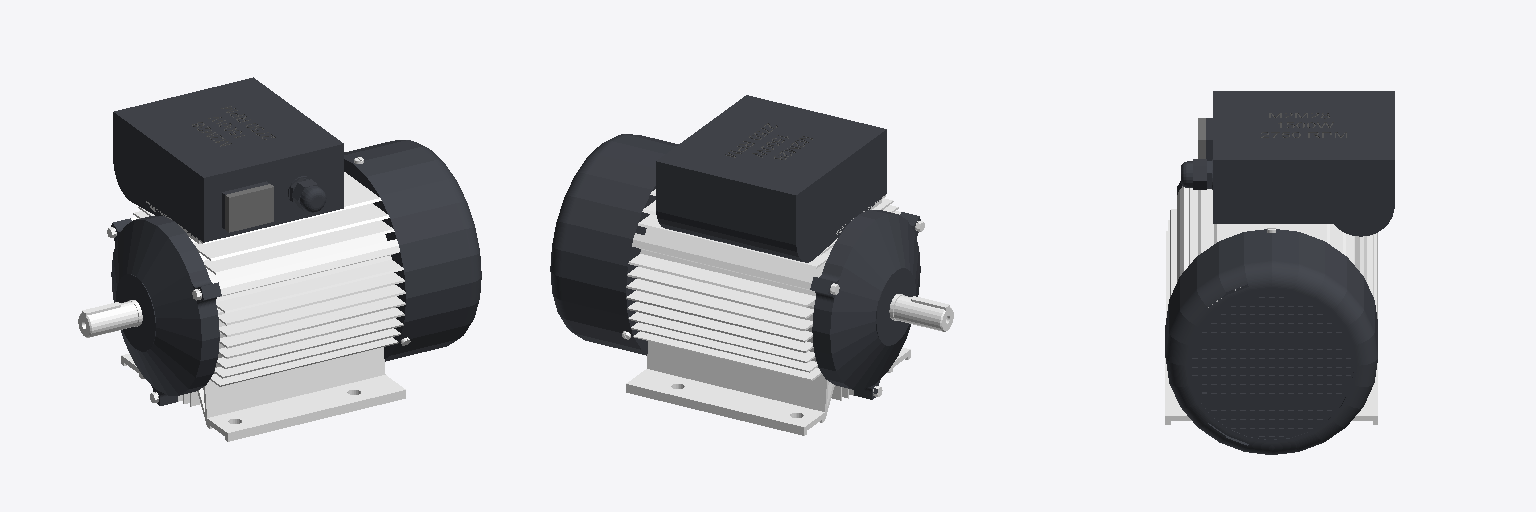
Rendered from asenkron.obj.
3 renders of one model, left to right at view 1: azimuth 30°, elevation 25°; view 2: azimuth 150°, elevation 25°; view 3: azimuth 270°, elevation 25°, orthographic.
Visible parts, largest first — view 1: Mesh67 Mesh6 aaa_obj Model, Mesh78 Mesh7 aaa_obj Model, Mesh23 Mesh2 aaa_obj Model, Mesh56 Mesh5 aaa_obj Model, Mesh89 Mesh8 aaa_obj Model; view 2: Mesh67 Mesh6 aaa_obj Model, Mesh78 Mesh7 aaa_obj Model, Mesh23 Mesh2 aaa_obj Model, Mesh56 Mesh5 aaa_obj Model, Mesh89 Mesh8 aaa_obj Model; view 3: Mesh23 Mesh2 aaa_obj Model, Mesh78 Mesh7 aaa_obj Model, Mesh67 Mesh6 aaa_obj Model.
Boxes of the visible parts, x1=… form: Mesh67 Mesh6 aaa_obj Model: x1=121, y1=172, x2=405, y2=441; Mesh78 Mesh7 aaa_obj Model: x1=113, y1=77, x2=343, y2=242; Mesh23 Mesh2 aaa_obj Model: x1=344, y1=140, x2=481, y2=361; Mesh56 Mesh5 aaa_obj Model: x1=107, y1=216, x2=221, y2=405; Mesh89 Mesh8 aaa_obj Model: x1=78, y1=300, x2=142, y2=337; Mesh67 Mesh6 aaa_obj Model: x1=626, y1=189, x2=910, y2=435; Mesh78 Mesh7 aaa_obj Model: x1=656, y1=95, x2=886, y2=262; Mesh23 Mesh2 aaa_obj Model: x1=550, y1=134, x2=678, y2=355; Mesh56 Mesh5 aaa_obj Model: x1=810, y1=210, x2=924, y2=399; Mesh89 Mesh8 aaa_obj Model: x1=889, y1=294, x2=953, y2=331; Mesh23 Mesh2 aaa_obj Model: x1=1165, y1=229, x2=1377, y2=454; Mesh78 Mesh7 aaa_obj Model: x1=1181, y1=91, x2=1394, y2=236; Mesh67 Mesh6 aaa_obj Model: x1=1165, y1=186, x2=1377, y2=424.
Bounding box in the file's own units: 296 × 198 × 167.